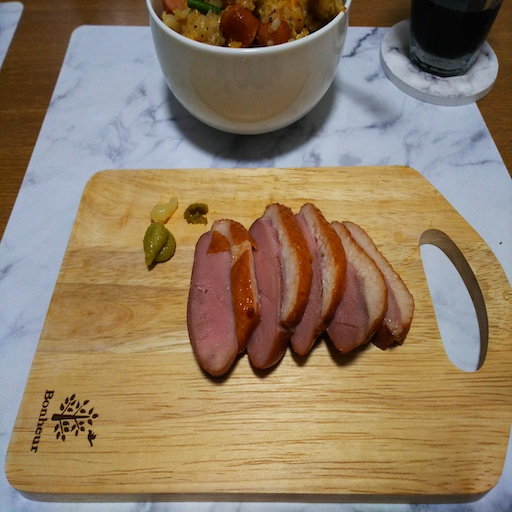drink: (407, 1, 505, 74)
other: (144, 197, 416, 379), (147, 1, 348, 49)
